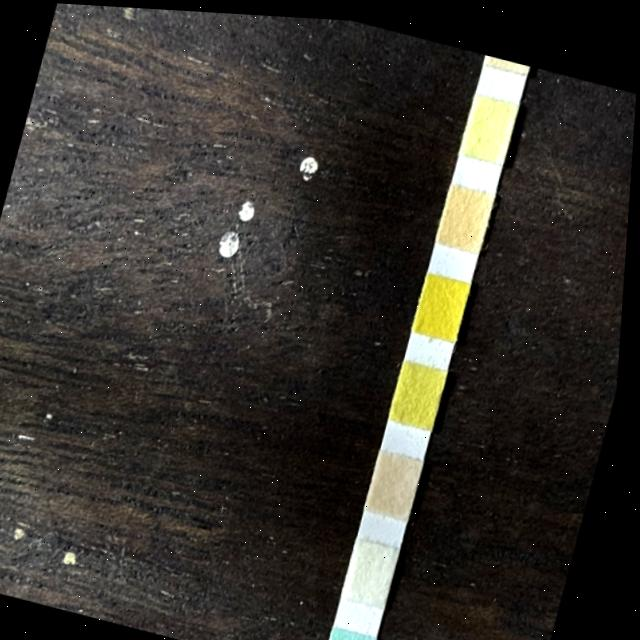Bilirubin: (349, 535, 406, 605)
Blood: (415, 268, 474, 339)
Glucose: (331, 624, 382, 640)
Ketone: (371, 448, 426, 516)
Protein: (462, 90, 516, 160)
SpGravity: (393, 356, 451, 426)
Urobilinogen: (484, 49, 528, 69)
pH: (440, 181, 494, 248)
